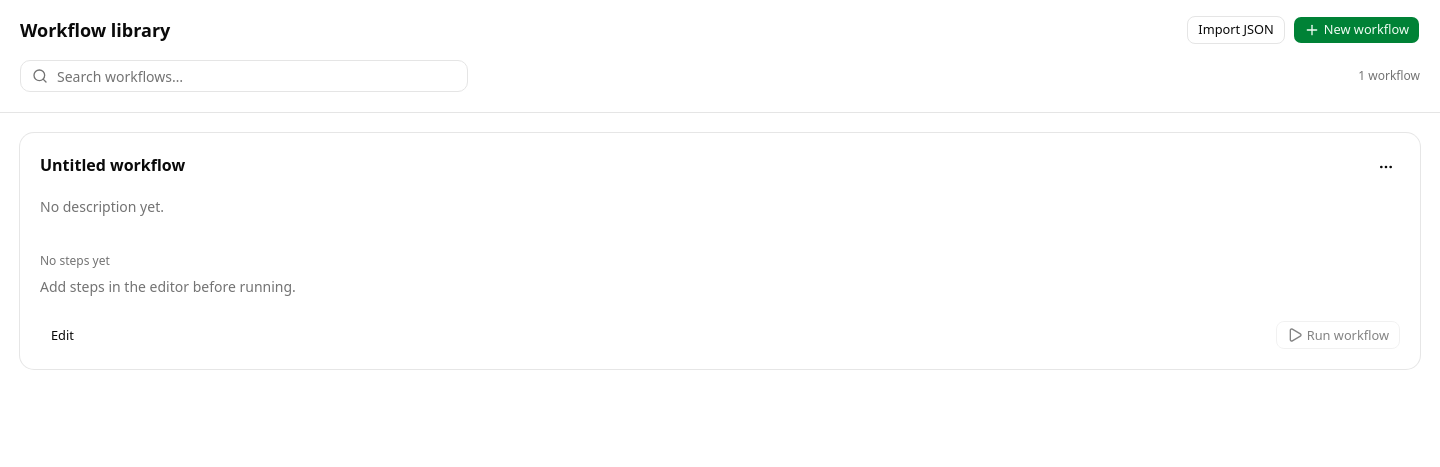
Test: previews at most three ordered steps and handles blank content and zero steps
Expected: the button "Run workflow" is disabled, [1276,321,1400,349]
Click the button "Edit" at coordinates (62, 335), box [40,321,85,349]
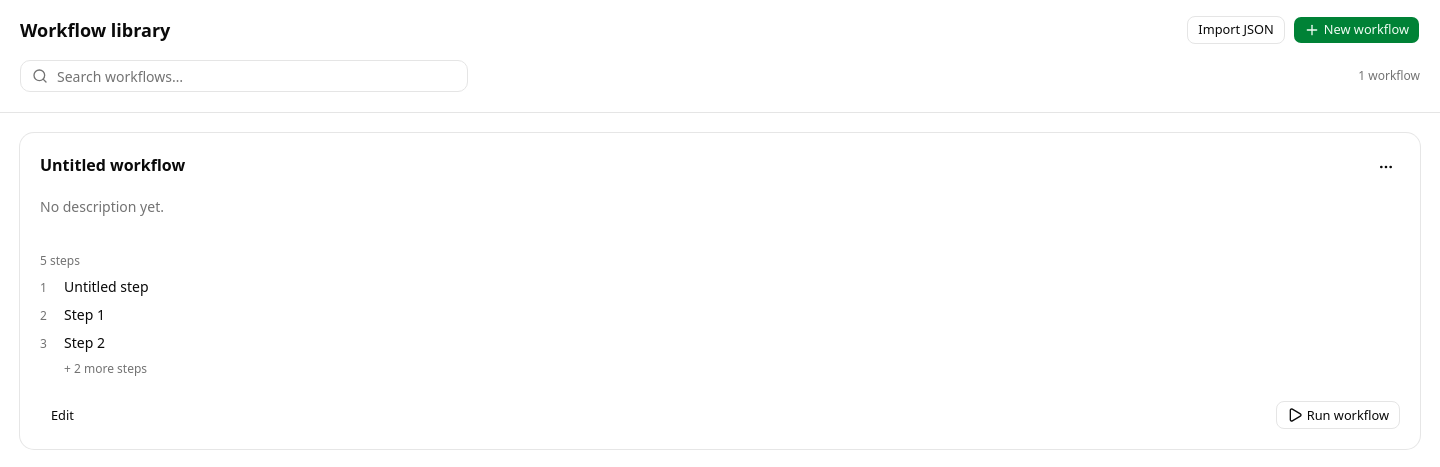
Expected: the number of list items is 3, [40,277,149,296]; [40,305,105,324]; [40,333,105,352]
Expected: the text "Untitled step" is shown, [64,277,149,297]
Expected: the text "+ 2 more steps" is shown, [64,360,147,377]
Click the button "Run workflow" at coordinates (1338, 415), box [1276,401,1400,429]
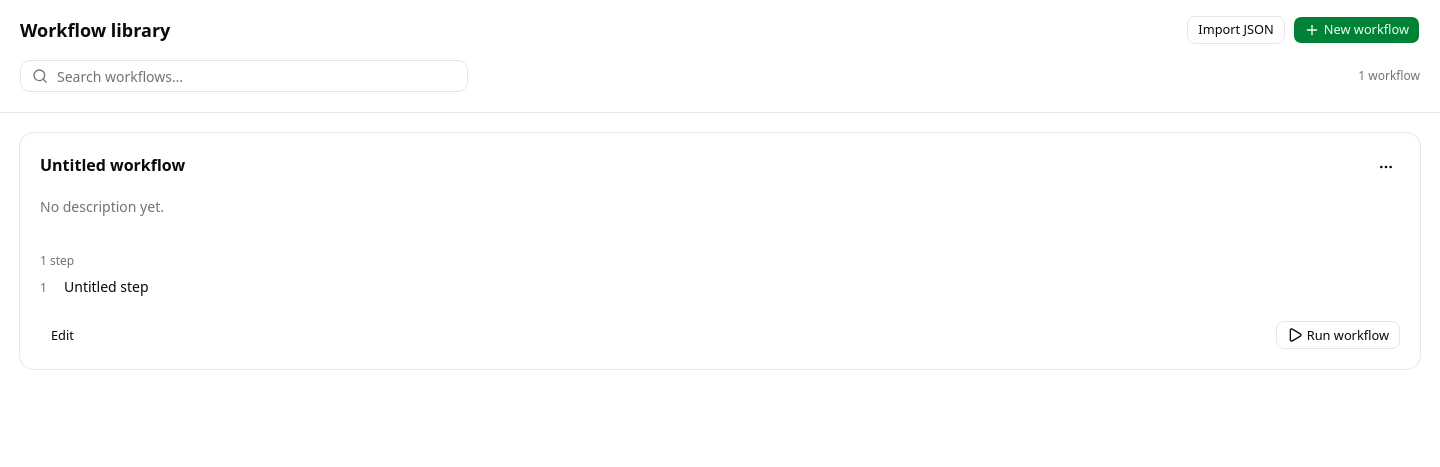
Expected: the text "1 step" is shown, [40,252,74,269]
Expected: the text "more steps" is gone
